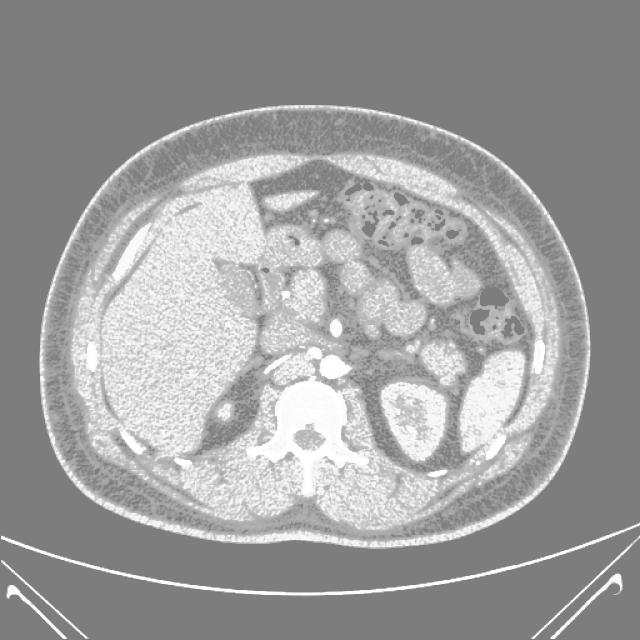NORMAL: (39, 107, 603, 578)
